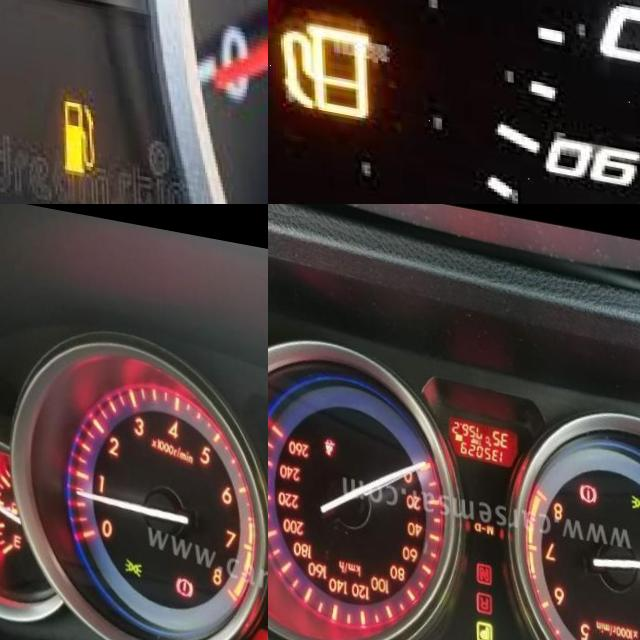Seat Belt: (322, 432, 333, 452)
